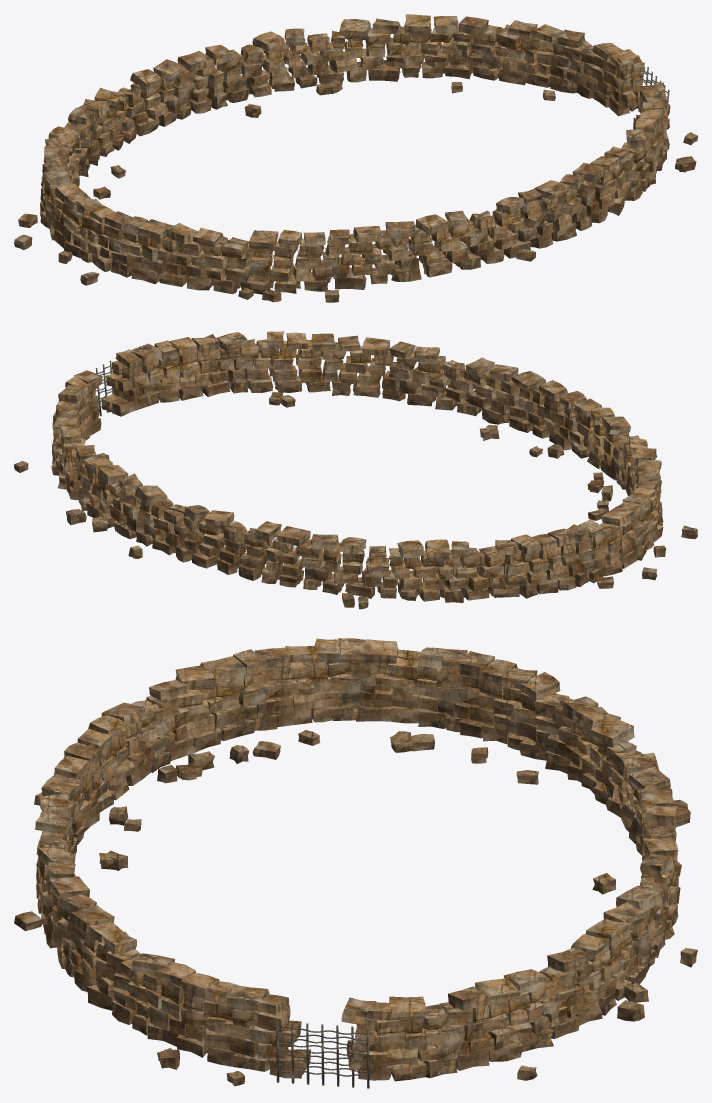
Rendered from sheep_pen.glb.
The picture shows the model from 3 angles, top to bottom: view 1: azimuth 30°, elevation 25°; view 2: azimuth 150°, elevation 25°; view 3: azimuth 270°, elevation 25°; orthographic projection. The views are drawn at different scales.
Visible parts, largest first — view 1: sheep_pen; view 2: sheep_pen; view 3: sheep_pen.
Part boxes in pixels (x1=…): sheep_pen: x1=14, y1=14, x2=697, y2=302; sheep_pen: x1=14, y1=331, x2=697, y2=609; sheep_pen: x1=14, y1=638, x2=697, y2=1088.
Size of the model in its own units: 15.67 by 1.4 by 11.23.
Materials: 2 (2 with a texture image).
